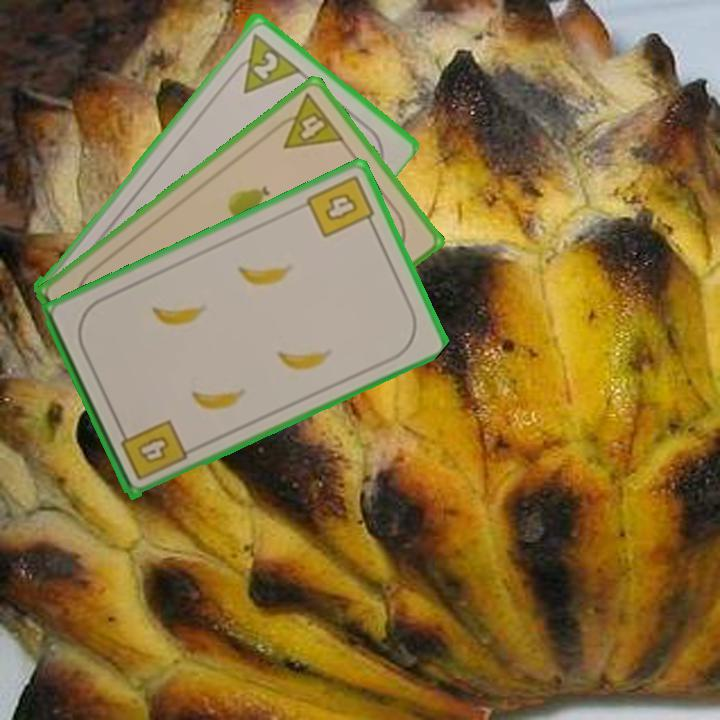2p: (226, 29, 302, 96)
4b: (302, 171, 379, 241), (115, 415, 190, 484)
4p: (267, 89, 347, 152)
